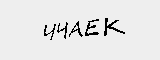А: (68, 19, 81, 37)
Е: (83, 17, 98, 39)
К: (100, 16, 125, 37)
Ч: (39, 19, 56, 40), (56, 19, 69, 39)
